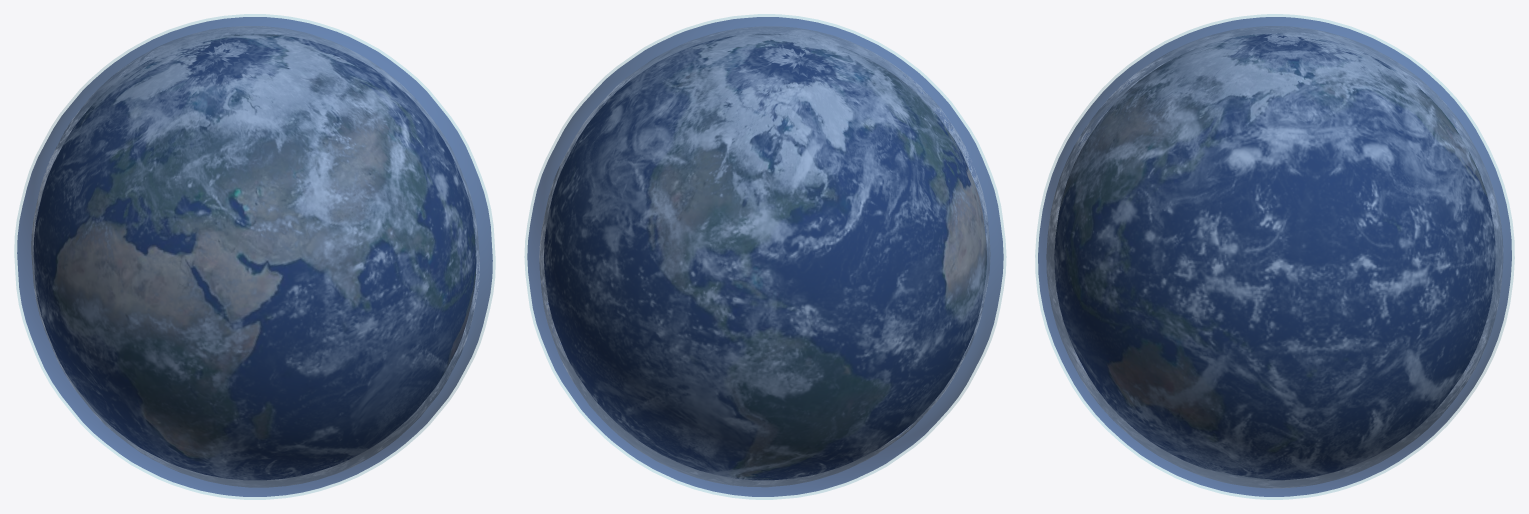
File: planet_earth.glb
The picture shows the model from 3 angles, left to right: view 1: azimuth 30°, elevation 25°; view 2: azimuth 150°, elevation 25°; view 3: azimuth 270°, elevation 25°; orthographic projection.
Parts seen in each view (by area): view 1: Atmosfera_tierra_atmosfera_01_0, Tierra_Tierra_blin_superficie_0, Nubes, Atmosfera1_tierra_atmosfera_02_0; view 2: Atmosfera_tierra_atmosfera_01_0, Tierra_Tierra_blin_superficie_0, Nubes, Atmosfera1_tierra_atmosfera_02_0; view 3: Atmosfera_tierra_atmosfera_01_0, Tierra_Tierra_blin_superficie_0, Nubes, Atmosfera1_tierra_atmosfera_02_0.
Boxes of the visible parts, box(x1,y1,x2,y2) form: Atmosfera_tierra_atmosfera_01_0: box(17, 17, 492, 496); Tierra_Tierra_blin_superficie_0: box(34, 34, 475, 479); Nubes: box(31, 26, 479, 487); Atmosfera1_tierra_atmosfera_02_0: box(14, 14, 495, 499); Atmosfera_tierra_atmosfera_01_0: box(527, 17, 1003, 496); Tierra_Tierra_blin_superficie_0: box(544, 34, 986, 479); Nubes: box(539, 26, 990, 486); Atmosfera1_tierra_atmosfera_02_0: box(524, 14, 1006, 499); Atmosfera_tierra_atmosfera_01_0: box(1038, 17, 1511, 496); Tierra_Tierra_blin_superficie_0: box(1055, 34, 1495, 479); Nubes: box(1046, 26, 1502, 487); Atmosfera1_tierra_atmosfera_02_0: box(1035, 14, 1514, 499).
Size of the model in its own units: 423 by 428 by 423.
